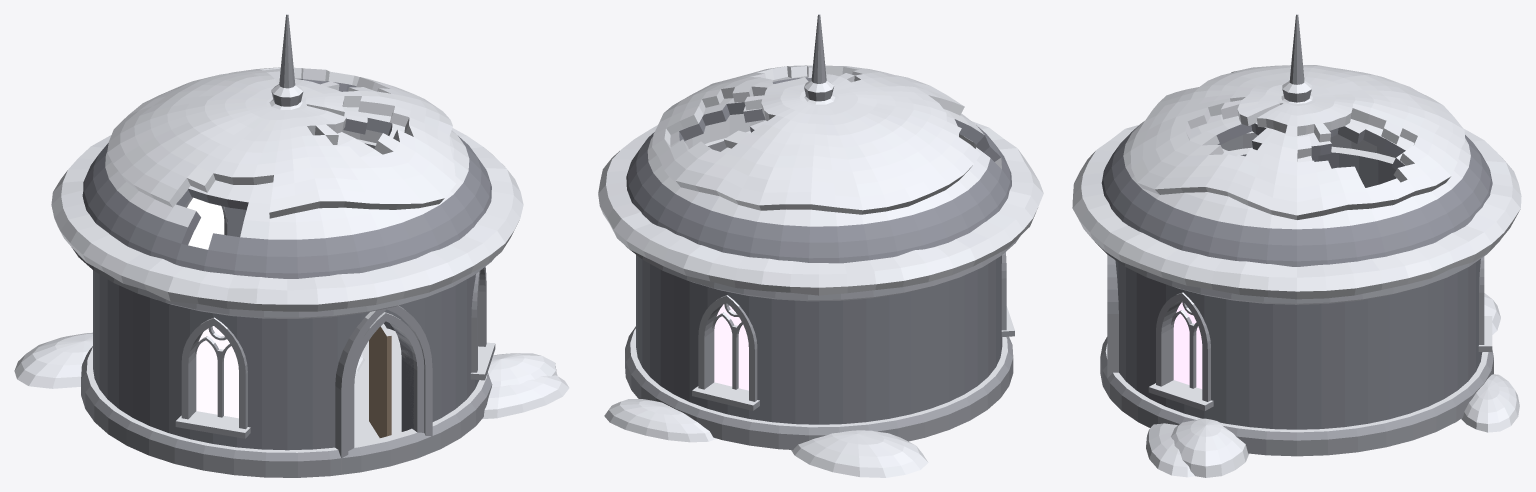
File: AR_Casinha_B.fbx
3 views of the same model, side by side, from view 1: azimuth 30°, elevation 25°; view 2: azimuth 150°, elevation 25°; view 3: azimuth 270°, elevation 25° (orthographic). The views are drawn at different scales.
Parts seen in each view (by area): view 1: AR_Casinha_B; view 2: AR_Casinha_B; view 3: AR_Casinha_B.
Part boxes in pixels (box(x1,y1,x2,y2)): AR_Casinha_B: box(14, 14, 569, 477); AR_Casinha_B: box(598, 14, 1043, 477); AR_Casinha_B: box(1072, 14, 1521, 477).
Bounding box in the file's own units: 12.14 × 10.48 × 11.64.
